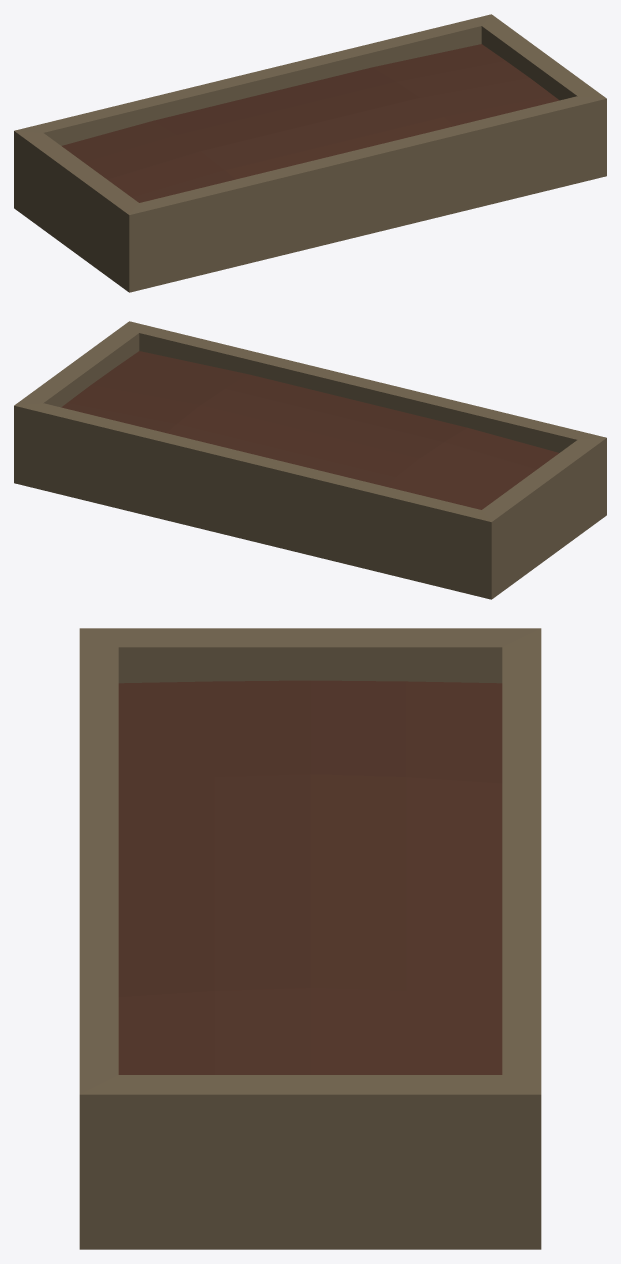
The model's file is RaisedBed.fbx.
3 renders of one model, top to bottom at view 1: azimuth 30°, elevation 25°; view 2: azimuth 150°, elevation 25°; view 3: azimuth 270°, elevation 25°, orthographic. The views are drawn at different scales.
Parts seen in each view (by area): view 1: RaisedBed; view 2: RaisedBed; view 3: RaisedBed.
Part boxes in pixels (x1,y1,x2,y2): RaisedBed: (14, 14, 606, 292); RaisedBed: (14, 321, 606, 599); RaisedBed: (79, 628, 541, 1249).
Bounding box in the file's own units: 313 × 48.76 × 131.
